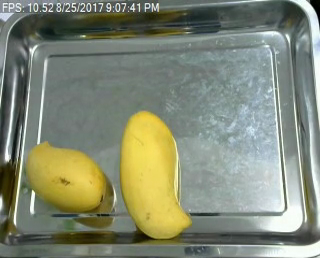Mango: (118, 108, 194, 241), (22, 139, 108, 213)
